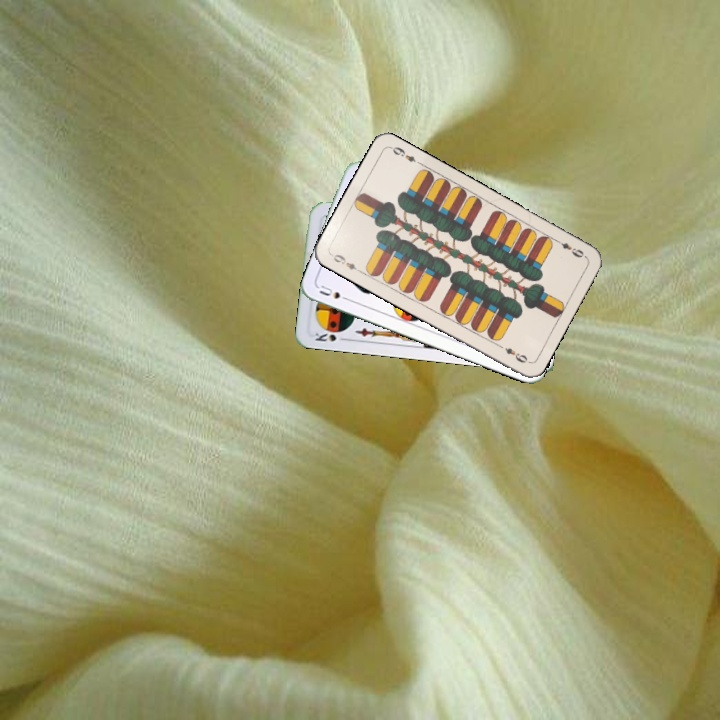E9: (327, 250, 364, 275), (551, 235, 586, 260)
SK: (311, 327, 350, 344)
SU: (315, 281, 354, 304)
